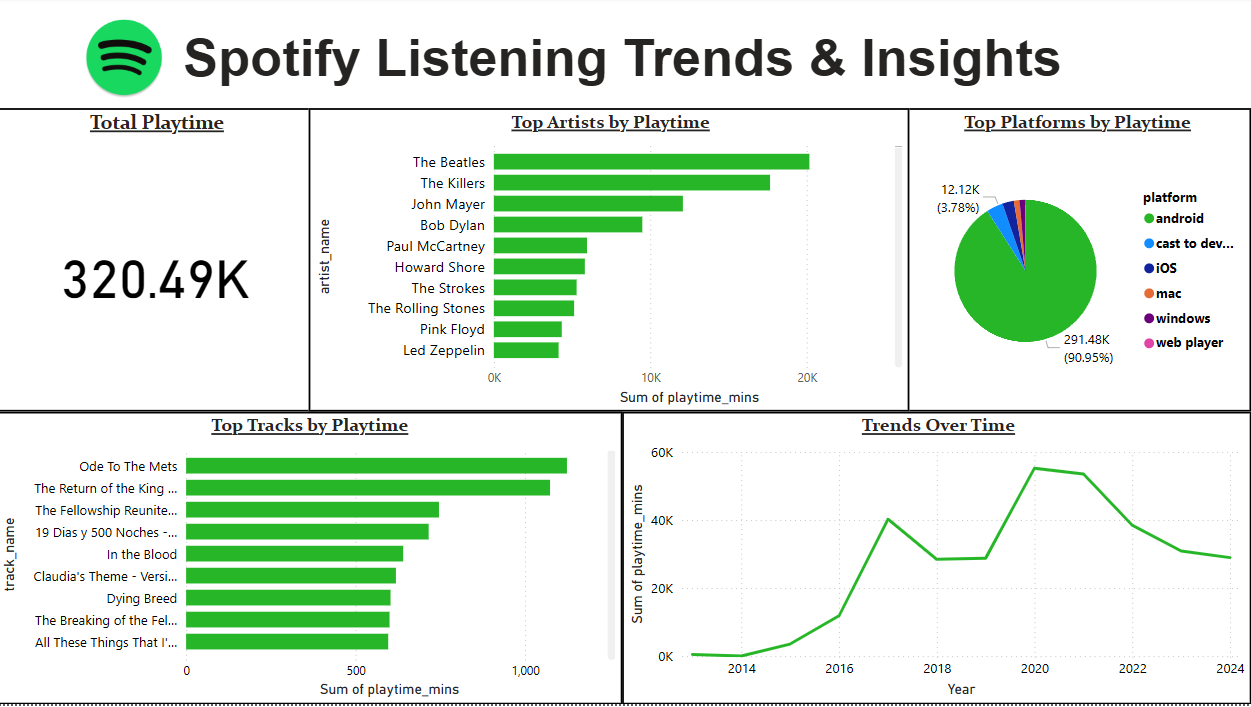

The page's visual inventory and layout, read from the dashboard file:
{"tool":"powerbi","page":{"name":"Page 1","canvas":[1280,720],"ordinal":0},"visuals":[{"type":"card","title":"Total Playtime","fields":{"Values":["spotify_data.playtime_mins"]},"box":[0,113.1,328.2,309.2],"z":0},{"type":"pieChart","title":"Top Platforms by Playtime","fields":{"Category":["spotify_data.platform"],"Y":["spotify_data.playtime_mins"]},"box":[923,113.1,357.3,309.2],"z":1000},{"type":"barChart","title":"Top Artists by Playtime","fields":{"Category":["spotify_data.artist_name"],"Y":["spotify_data.playtime_mins"]},"box":[320.4,113.1,611.6,309.2],"z":2000},{"type":"barChart","title":"Top Tracks by Playtime","fields":{"Y":["spotify_data.playtime_mins"],"Category":["spotify_data.track_name"]},"box":[0,422.3,639.6,298],"z":3000},{"type":"lineChart","title":"Trends Over Time","fields":{"Category":["spotify_data.ts.Variation.Date Hierarchy.Year","spotify_data.ts.Variation.Date Hierarchy.Quarter","spotify_data.ts.Variation.Date Hierarchy.Month","spotify_data.ts.Variation.Date Hierarchy.Day"],"Y":["spotify_data.playtime_mins"]},"box":[639.6,422.3,640.7,298],"z":4000},{"type":"textbox","box":[0,25.8,1280.3,87.4],"z":5000},{"type":"image","box":[81,12.3,103.1,97.5],"z":5001}]}

Visuals, with their boxes in screenshot pixels (x1, y1, x2, y2), scaled from the page's 1280x720 canvas onto the 1251x707 screenshot:
"Total Playtime" card: <region>0, 111, 321, 415</region>
"Top Platforms by Playtime" pieChart: <region>902, 111, 1250, 415</region>
"Top Artists by Playtime" barChart: <region>313, 111, 911, 415</region>
"Top Tracks by Playtime" barChart: <region>0, 415, 625, 706</region>
"Trends Over Time" lineChart: <region>625, 415, 1250, 706</region>
textbox: <region>0, 25, 1250, 111</region>
image: <region>79, 12, 180, 108</region>
